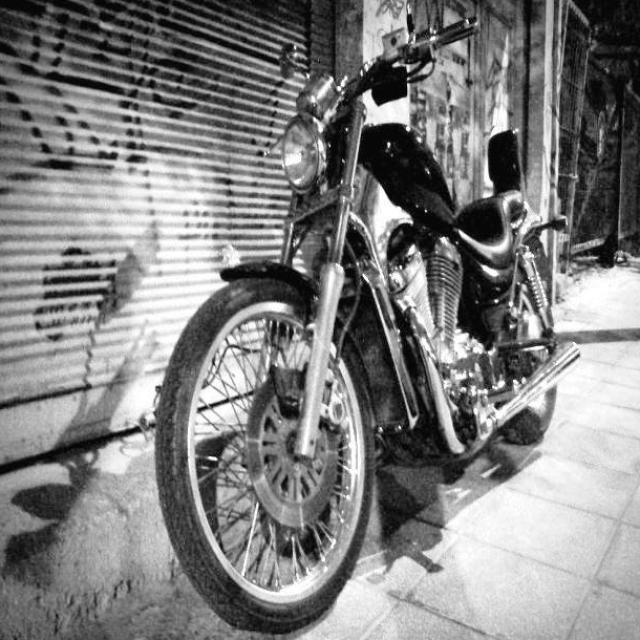Motorcycle: (146, 15, 564, 640)
